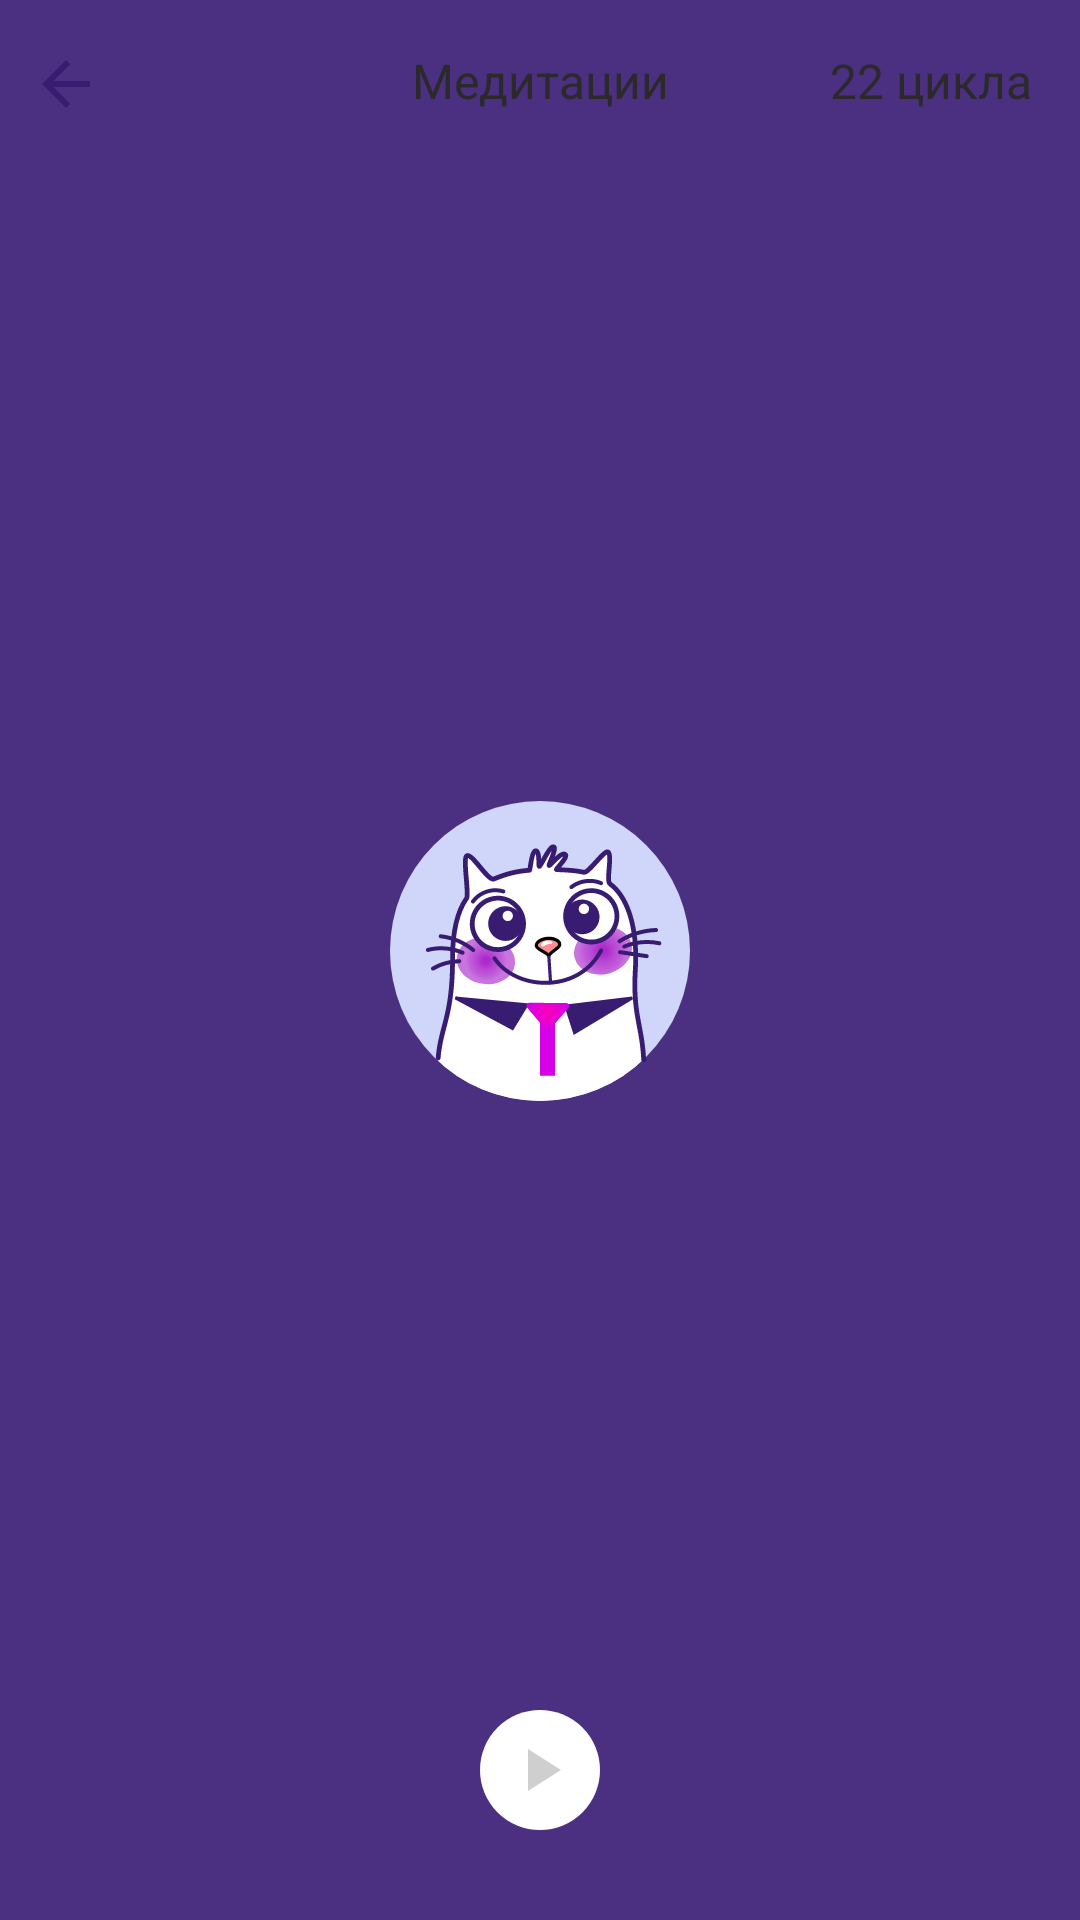

Where icons sit on this 1080px×1920px app screen, as (x1, y1, x2, y2):
play meditation: (480, 1710, 600, 1830)
